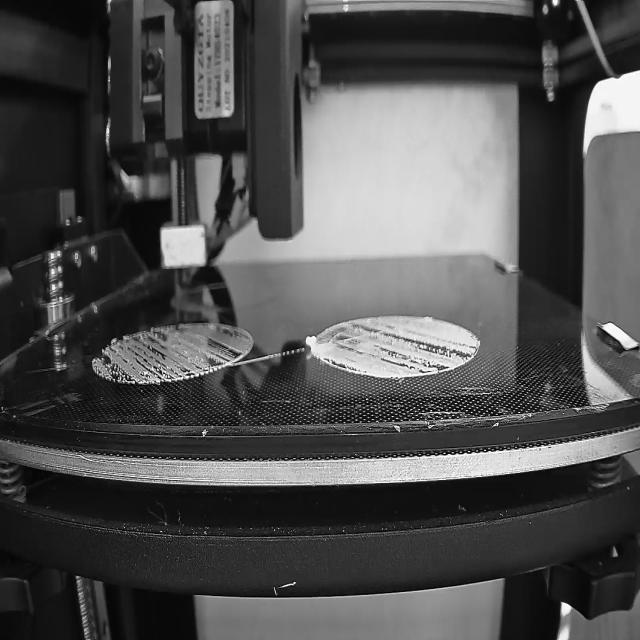under_extrusion: (320, 320, 480, 377), (94, 328, 186, 390), (204, 322, 253, 373)
